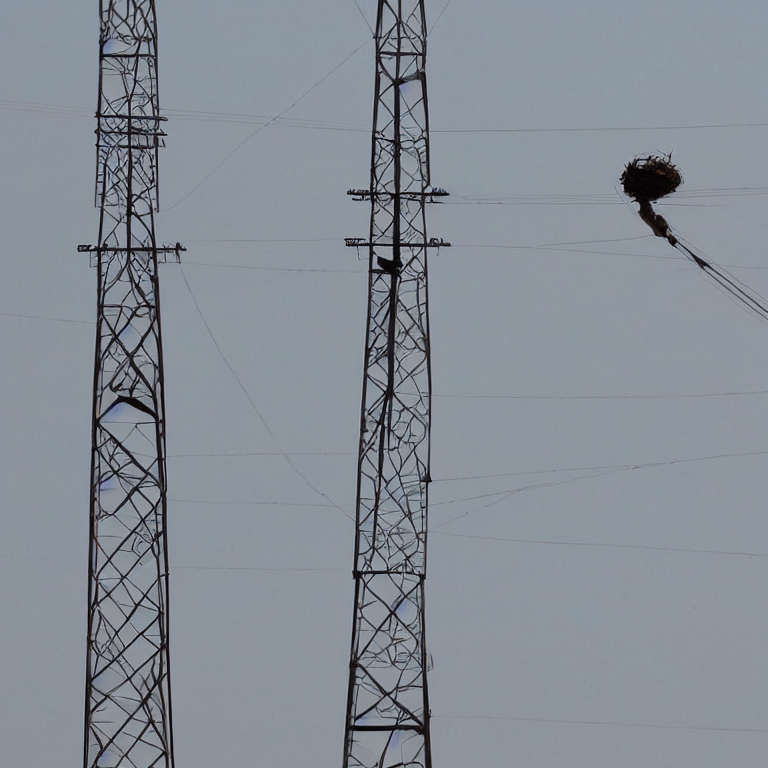nest: (620, 160, 682, 201)
